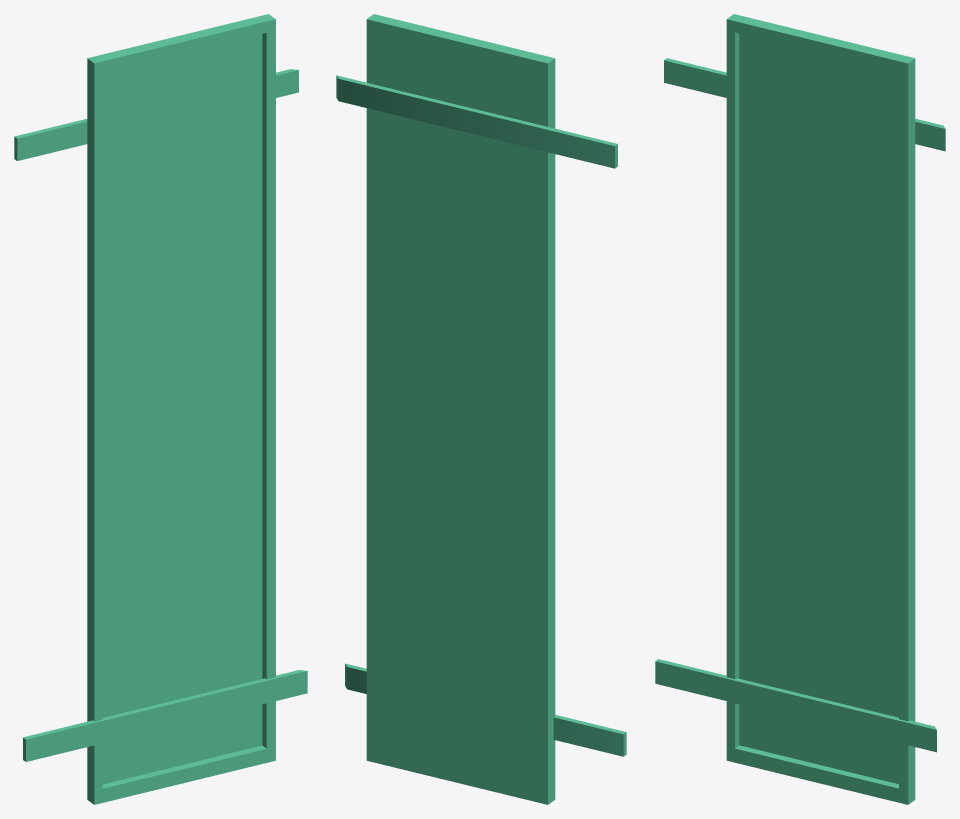
The model's file is Billboard3.fbx.
3 renders of one model, left to right at view 1: azimuth 30°, elevation 25°; view 2: azimuth 150°, elevation 25°; view 3: azimuth 330°, elevation 25°, orthographic.
Parts seen in each view (by area): view 1: Billboard3; view 2: Billboard3; view 3: Billboard3.
Boxes of the visible parts, <box> form: Billboard3: <box>14,14,307,804</box>; Billboard3: <box>336,14,626,804</box>; Billboard3: <box>655,14,945,804</box>.
Bounding box in the file's own units: 296 × 744 × 21.45.
